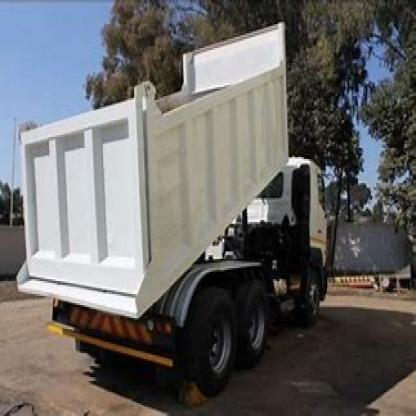dump_truck: (14, 17, 339, 358)
